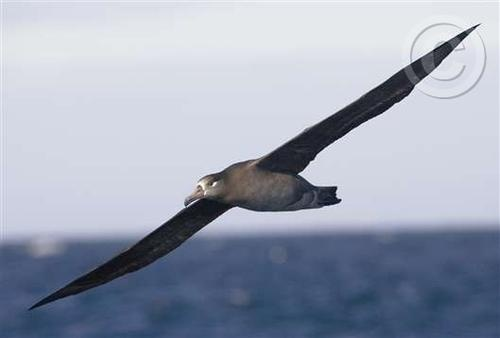bird: (27, 20, 483, 319)
